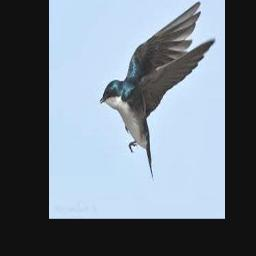Swallow: (100, 0, 215, 180)
